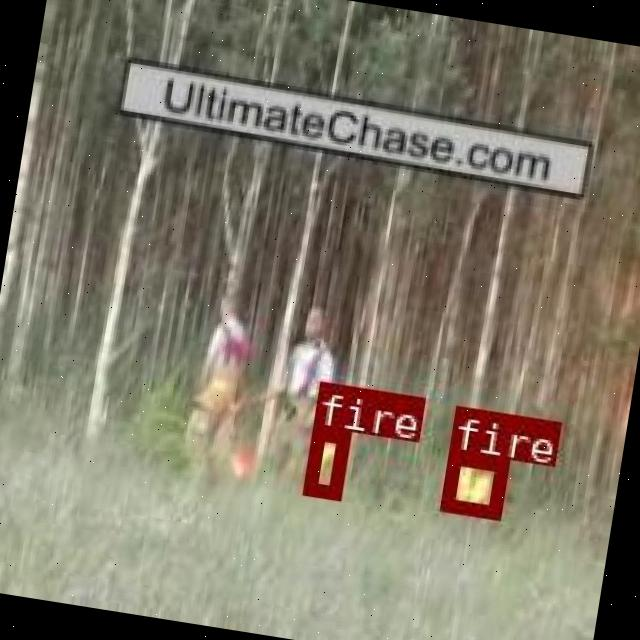fire: (440, 450, 506, 517), (302, 425, 347, 497)
